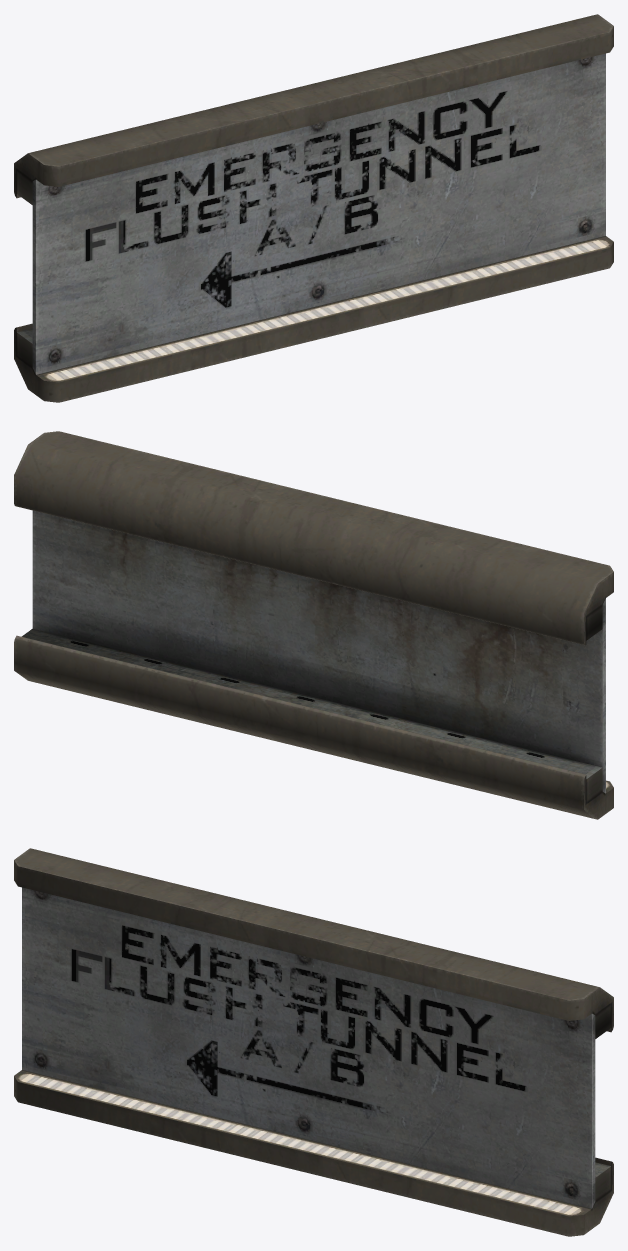
Rendered from sign_emergency_flush_tunnel_Larrow_AB.dae.
3 renders of one model, top to bottom at view 1: azimuth 30°, elevation 25°; view 2: azimuth 150°, elevation 25°; view 3: azimuth 330°, elevation 25°, orthographic.
Visible parts, largest first — view 1: pCube1; view 2: pCube1; view 3: pCube1.
Part boxes in pixels (x1,y1,x2,y2): pCube1: (14, 14, 613, 402); pCube1: (14, 431, 613, 819); pCube1: (14, 848, 613, 1236).
Bounding box in the file's own units: 1 × 0.3959 × 0.1078.
